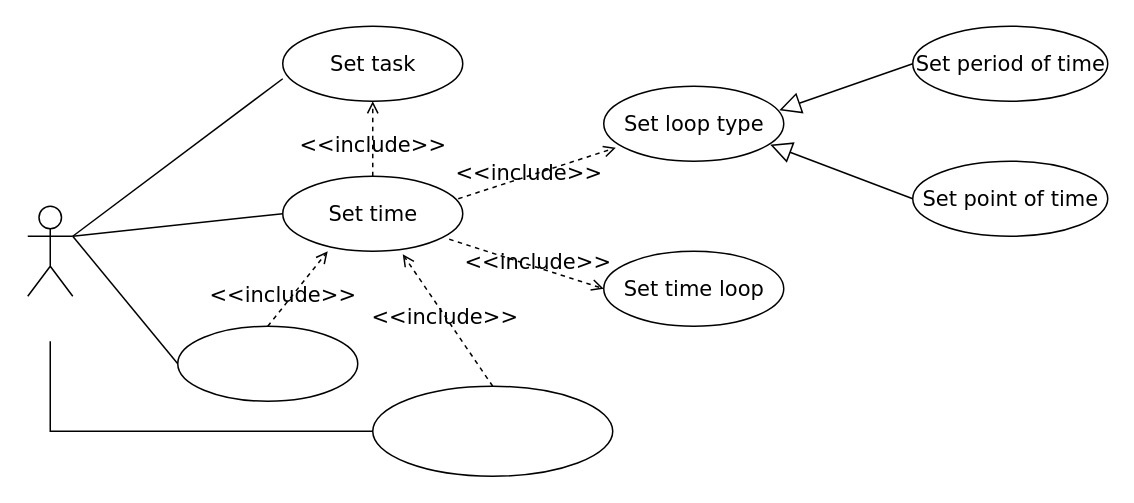
This 1134x503 diagram has some shape labels left out. The shapes that lost their labels are listed below. From the top down, each one's box as (x1, y1, x2, y2) in pixels, then its label:
(26, 205, 73, 296): User
(176, 325, 358, 401): Cancel repeater
(371, 385, 613, 476): View repeated tasks
